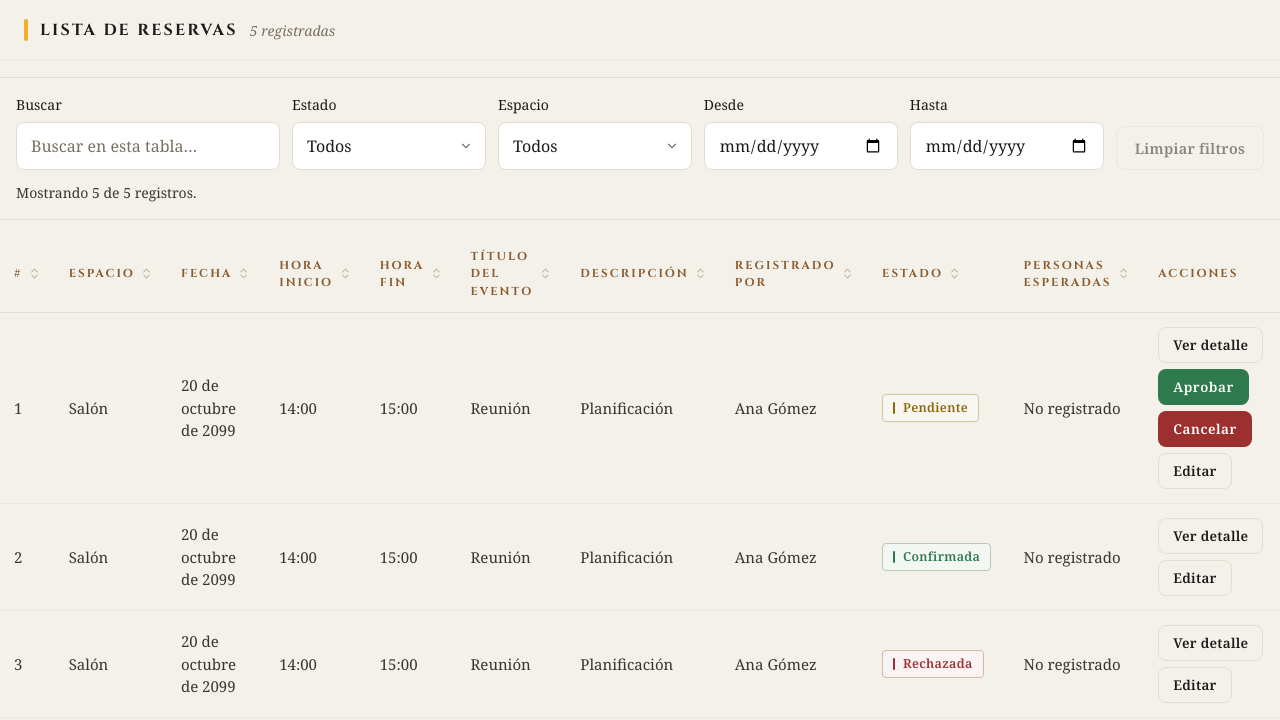
it: integración de reservas, estados y edición › valida campos y horario de la edición y permite cerrarla
Click the button "Editar" below "Pendiente".
click(1195, 471)  # box [1158,453,1232,489]
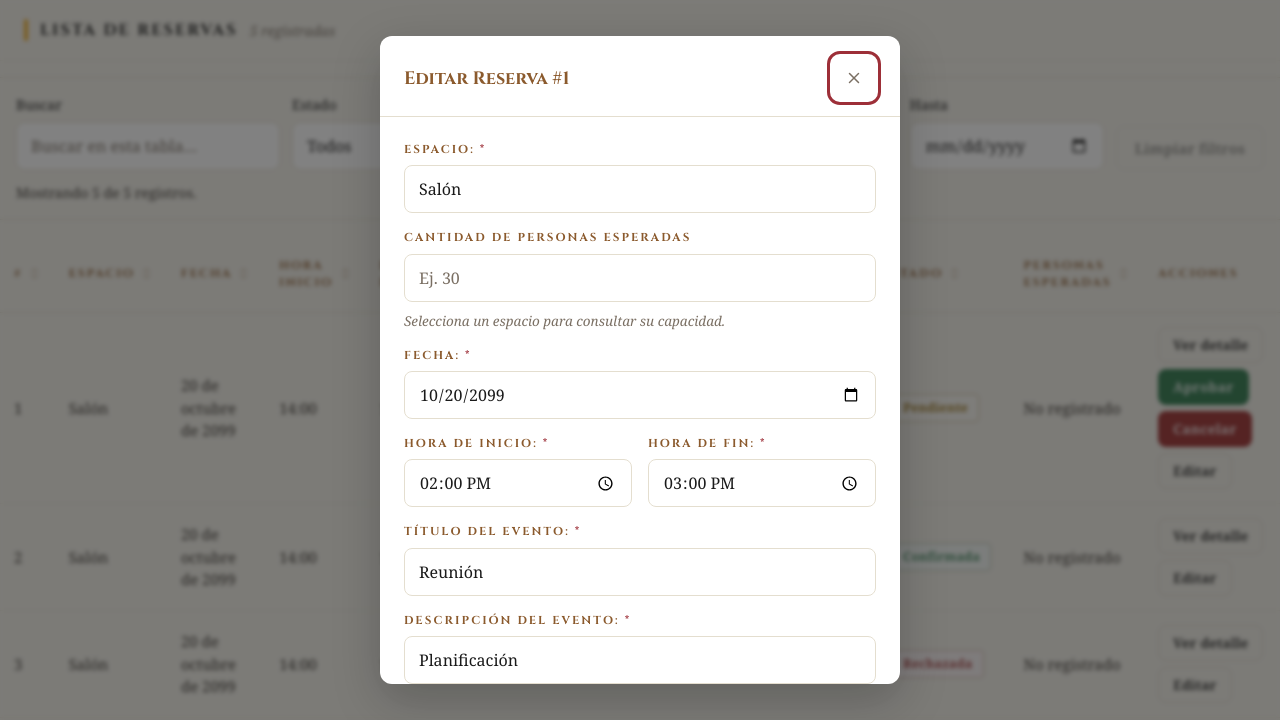
Clear the field showing "Reunión" at (640, 572), box [404,548,876,596]
(page scrolled)
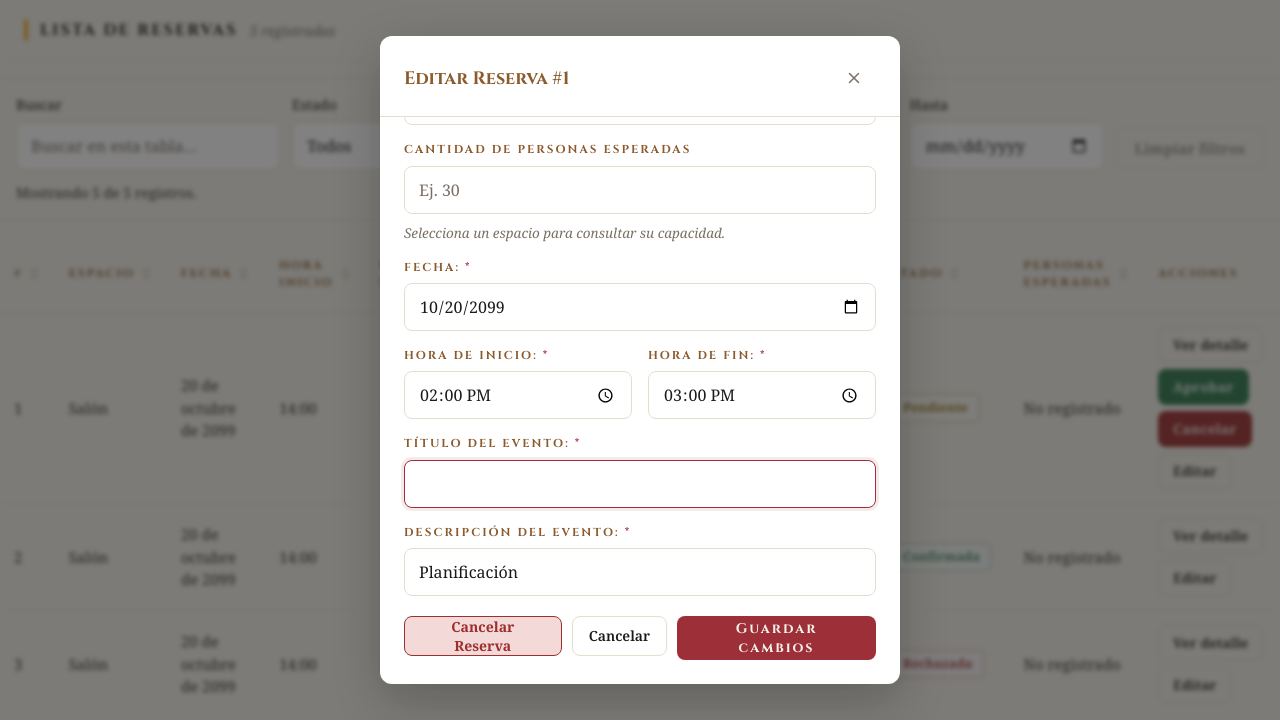
Click the button "Guardar cambios".
click(777, 638)  # box [677,616,876,660]
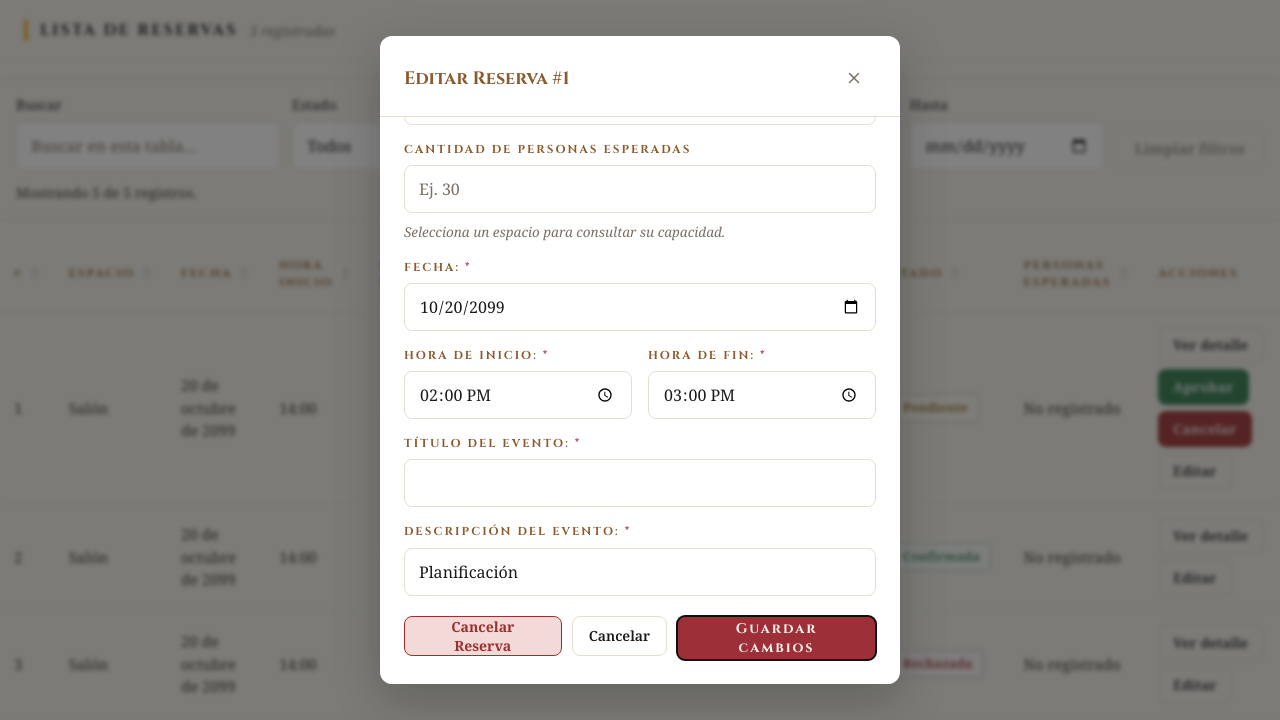
Type "Reunión" into the field showing "Reunión".
click(640, 483); type("Reunión")  # box [404,459,876,507]
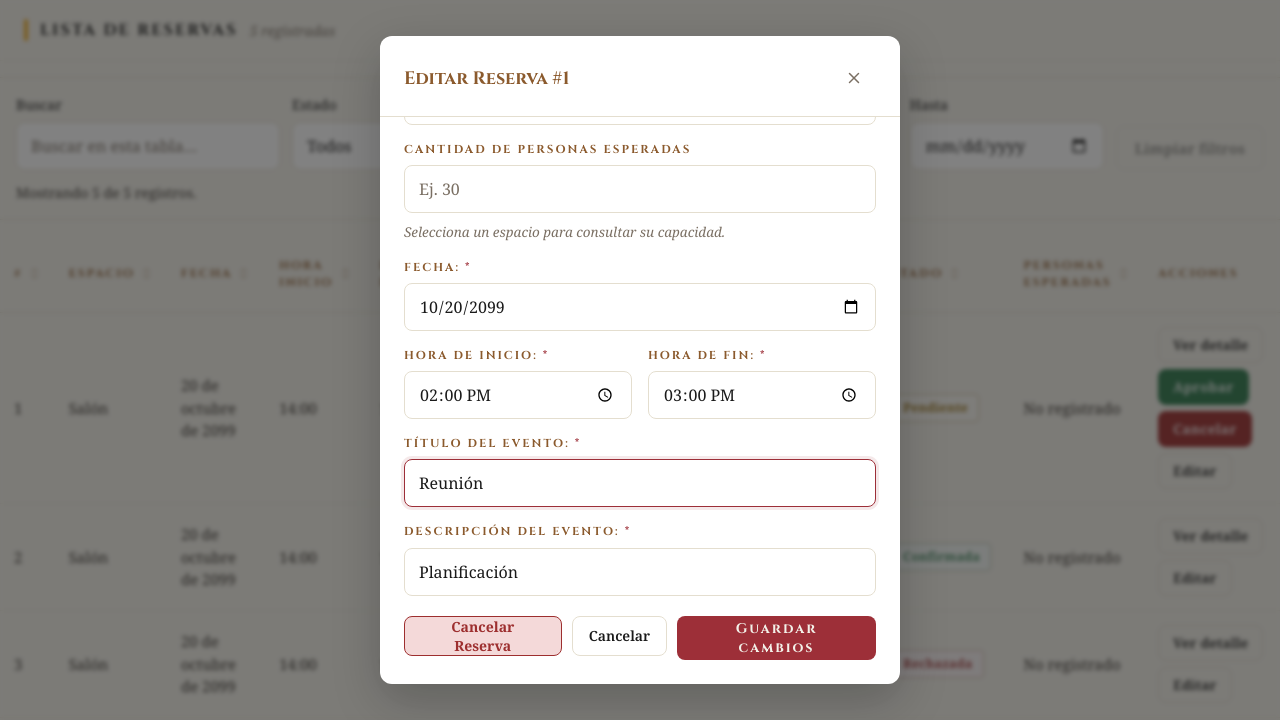
Replace the text in the time field labelled "Hora de Inicio:" with "16:00" at (518, 395), box [404,371,632,419]
Click the button "Guardar cambios".
click(777, 638)  # box [677,616,876,660]
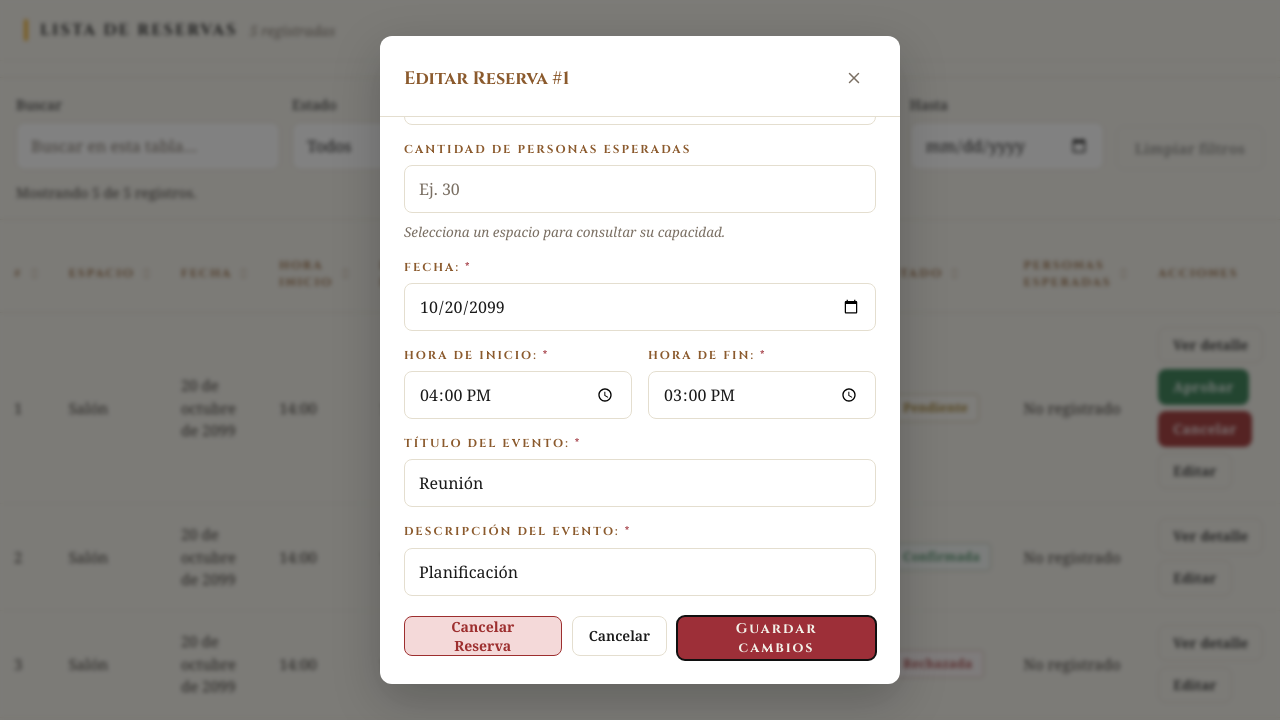
Click the button "Cancelar".
click(619, 636)  # box [572,616,667,656]
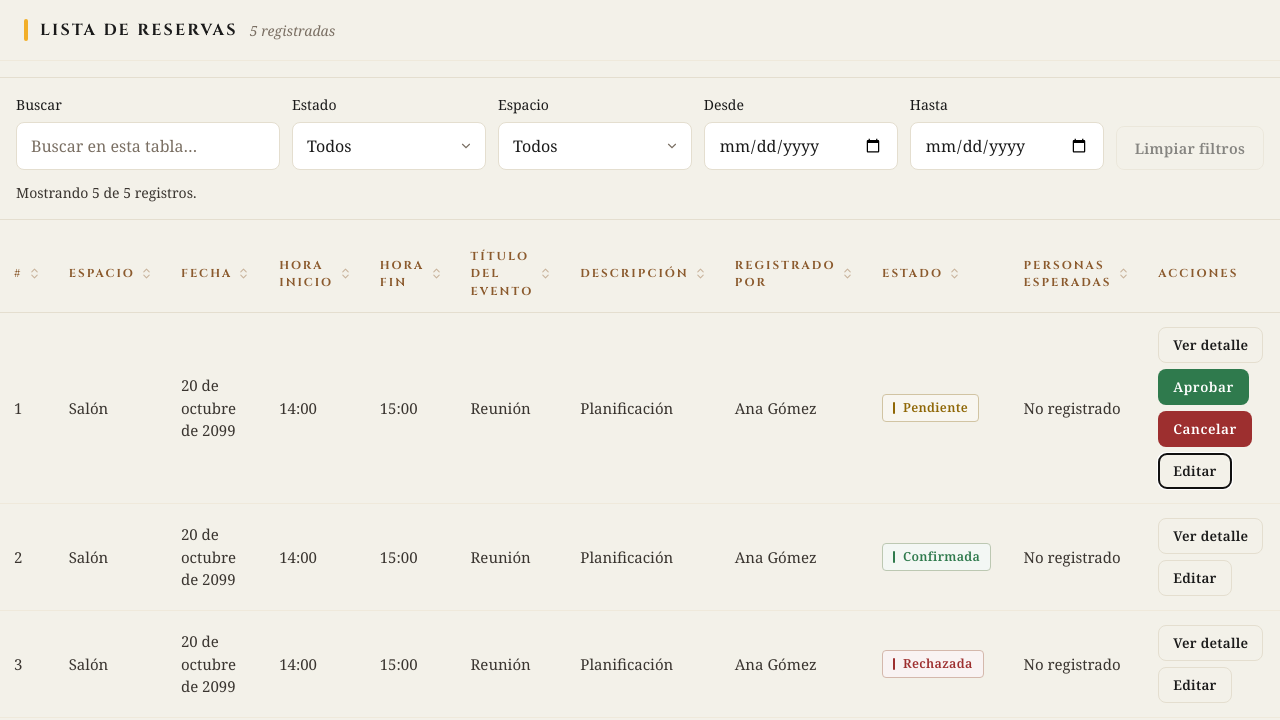
Result: the heading "Editar Reserva #1" is gone
